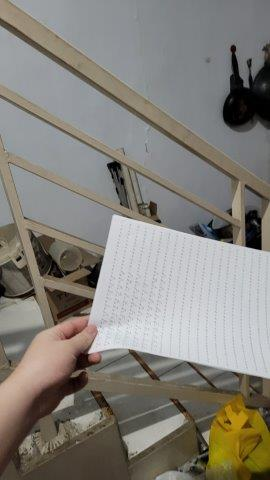kertas: (75, 216, 270, 375)
